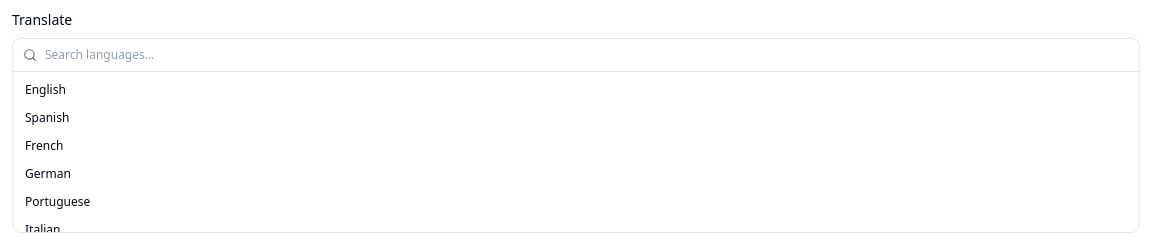
AiTranslateSubmenu › streams translation into the editor and offers confirm/cancel
Click the button "Spanish".
click(47, 118)  # box 17,104 -> 1135,132
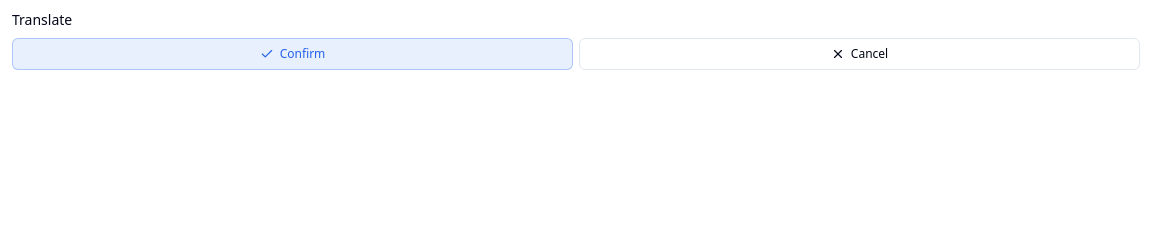
Result: the button "Confirm" is shown at 12,38 -> 573,70
